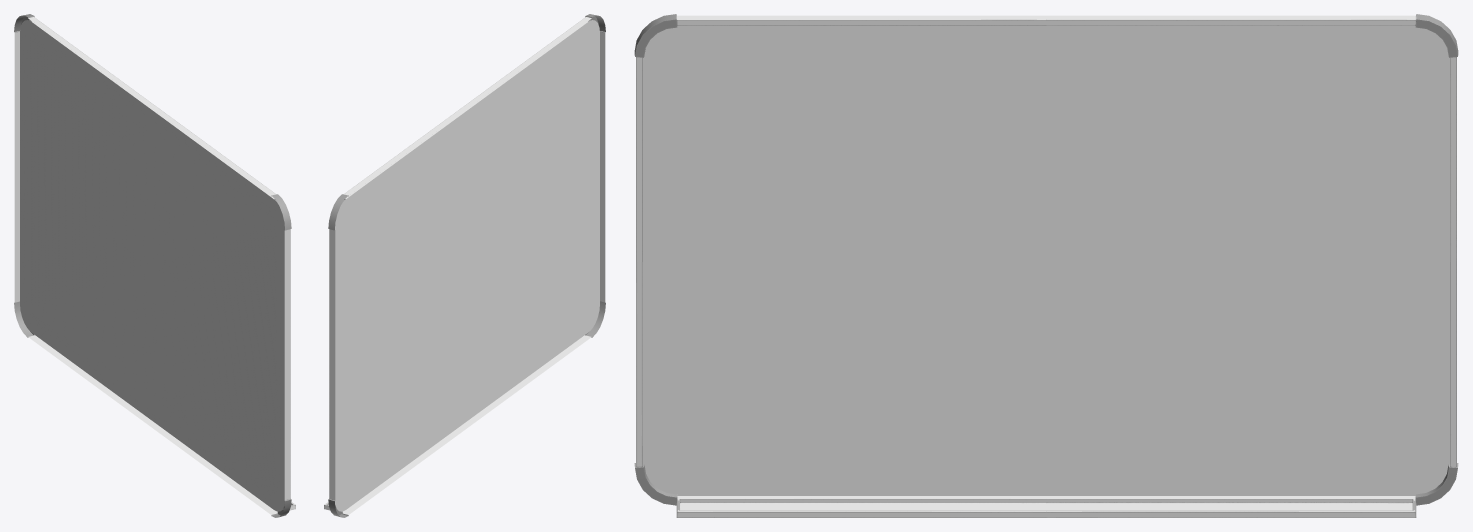
The picture shows the model from 3 angles, left to right: view 1: azimuth 30°, elevation 25°; view 2: azimuth 150°, elevation 25°; view 3: azimuth 270°, elevation 25°; orthographic projection. The views are drawn at different scales.
Parts seen in each view (by area): view 1: Rim, WhiteBoard; view 2: Rim, WhiteBoard; view 3: Rim, WhiteBoard.
Part boxes in pixels (x1,y1,x2,y2): Rim: (20,20,284,511); WhiteBoard: (14,14,295,517); Rim: (335,20,599,511); WhiteBoard: (324,14,605,517); Rim: (643,26,1449,495); WhiteBoard: (634,14,1458,517).
Size of the model in its own units: 10.57 by 131 by 201.
2 materials, 2 textured.
